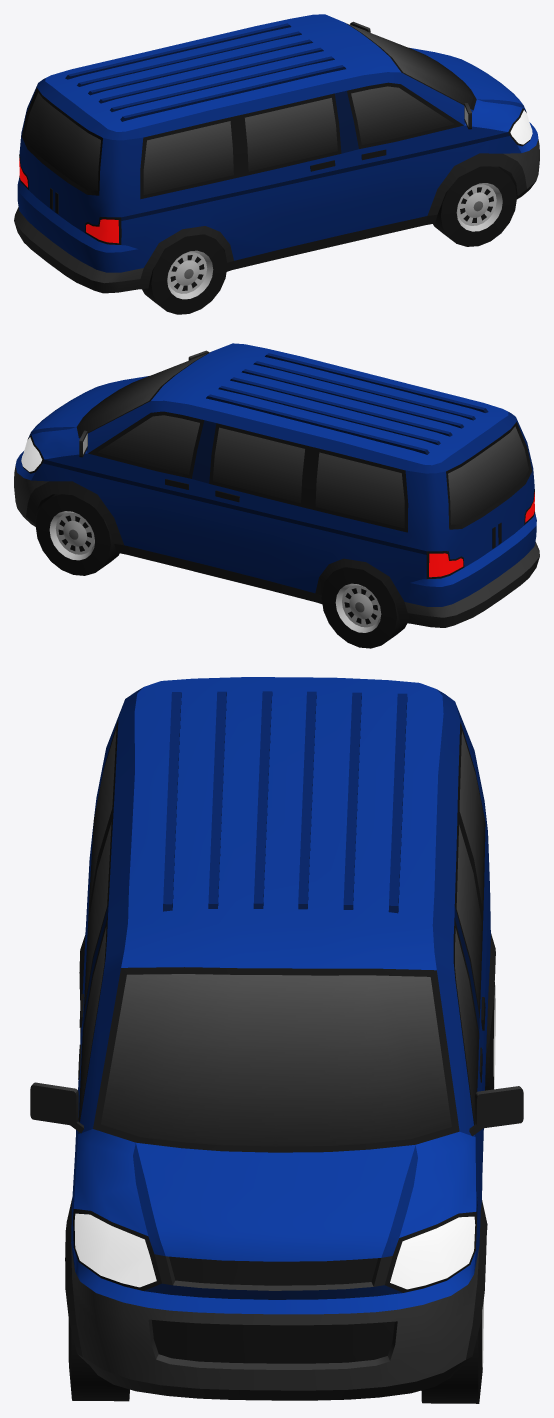
The model's file is Car_024.glb.
The picture shows the model from 3 angles, top to bottom: view 1: azimuth 30°, elevation 25°; view 2: azimuth 150°, elevation 25°; view 3: azimuth 270°, elevation 25°; orthographic projection. The views are drawn at different scales.
Visible parts, largest first — view 1: Car_024, wheel_1_Car_024_Wheel_2R, wheel_3_Car_024_Wheel_4R; view 2: Car_024, wheel_0_Car_024_Wheel_1L, wheel_2_Car_024_Wheel_3L; view 3: Car_024, wheel_0_Car_024_Wheel_1L, wheel_1_Car_024_Wheel_2R.
Boxes of the visible parts, x1,y1,x2,y2 form: Car_024: (14, 14, 539, 293); wheel_1_Car_024_Wheel_2R: (433, 166, 516, 246); wheel_3_Car_024_Wheel_4R: (142, 234, 227, 314); Car_024: (14, 343, 539, 627); wheel_0_Car_024_Wheel_1L: (35, 494, 119, 575); wheel_2_Car_024_Wheel_3L: (321, 567, 407, 648); Car_024: (30, 677, 523, 1400); wheel_0_Car_024_Wheel_1L: (421, 1299, 483, 1403); wheel_1_Car_024_Wheel_2R: (68, 1319, 129, 1401).
Size of the model in its own units: 4.87 by 1.91 by 2.24.
2 materials, 2 textured.
